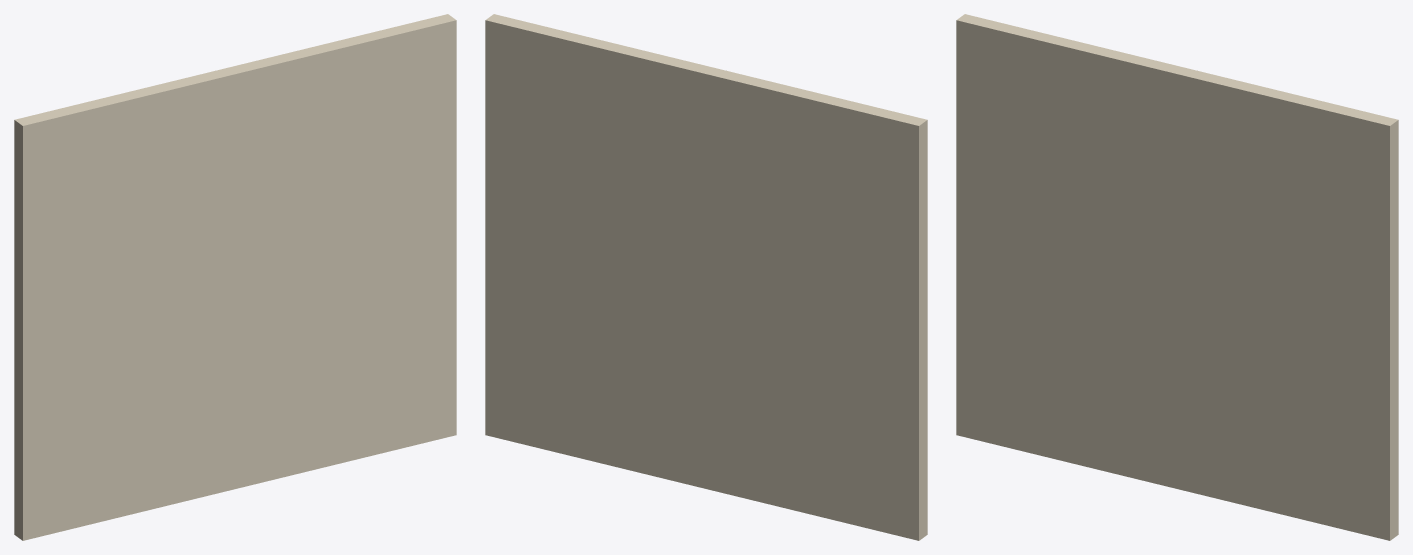
3 views of the same model, side by side, from view 1: azimuth 30°, elevation 25°; view 2: azimuth 150°, elevation 25°; view 3: azimuth 330°, elevation 25° (orthographic).
Visible parts, largest first — view 1: B-GF-WALL-005; view 2: B-GF-WALL-005; view 3: B-GF-WALL-005.
Boxes of the visible parts, left/top/right/bottom form: B-GF-WALL-005: left=14, top=14, right=456, bottom=540; B-GF-WALL-005: left=485, top=14, right=927, bottom=540; B-GF-WALL-005: left=956, top=14, right=1398, bottom=540.
Size of the model in its own units: 2.65 by 2.42 by 0.09.
